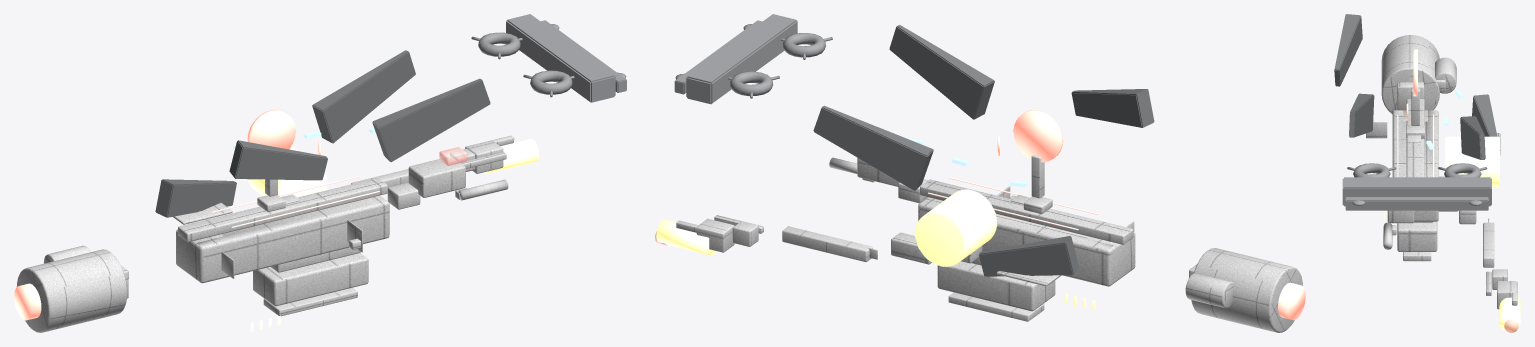
The model's file is var_ashline_rig_corsair_blade_v01.glb.
3 renders of one model, left to right at view 1: azimuth 30°, elevation 25°; view 2: azimuth 150°, elevation 25°; view 3: azimuth 270°, elevation 25°, orthographic. The views are drawn at different scales.
Visible parts, largest first — view 1: LOD0_Merged_Material_Hull, LOD0_Merged_Material_Mechanical, VAR_CORSAIR_blade1, VAR_CORSAIR_ramlip_main, VAR_CORSAIR_blade0, VAR_CORSAIR_blade3, VAR_CORSAIR_blade2, LOD0_Merged_Material_Cyan, LOD0_HOOK_TETHER_SPOOL, VAR_CORSAIR_weaponcollar_n, VAR_CORSAIR_weaponcollar_p, LOD0_HOOK_DRIVE_CORE (+4 smaller); view 2: LOD0_Merged_Material_Hull, LOD0_Merged_Material_Mechanical, LOD0_HOOK_TETHER_SPOOL, VAR_CORSAIR_blade0, VAR_CORSAIR_ramlip_main, VAR_CORSAIR_blade1, VAR_CORSAIR_blade2, VAR_CORSAIR_blade3, LOD0_Merged_Material_Cyan, LOD2_Merged_Material_Cyan, VAR_CORSAIR_weaponcollar_p, VAR_CORSAIR_weaponcollar_n (+6 smaller); view 3: LOD0_Merged_Material_Mechanical, LOD0_Merged_Material_Hull, VAR_CORSAIR_ramlip_main, VAR_CORSAIR_ramlip_edge, LOD0_HOOK_TETHER_SPOOL, VAR_CORSAIR_blade3, VAR_CORSAIR_blade0, VAR_CORSAIR_blade1, LOD1_Merged_Material_Mechanical, VAR_CORSAIR_blade2, LOD0_Merged_Material_Cyan, LOD2_HOOK_TETHER_SPOOL (+7 smaller).
Boxes of the visible parts, box(x1,y1,x2,y2) form: LOD0_Merged_Material_Hull: box(121, 157, 465, 306); LOD0_Merged_Material_Mechanical: box(17, 135, 513, 332); VAR_CORSAIR_blade1: box(372, 78, 490, 162); VAR_CORSAIR_ramlip_main: box(506, 14, 615, 102); VAR_CORSAIR_blade0: box(312, 50, 415, 143); VAR_CORSAIR_blade3: box(229, 140, 327, 180); VAR_CORSAIR_blade2: box(155, 179, 236, 217); LOD0_Merged_Material_Cyan: box(211, 109, 379, 227); LOD0_HOOK_TETHER_SPOOL: box(248, 139, 538, 197); VAR_CORSAIR_weaponcollar_n: box(530, 70, 572, 94); VAR_CORSAIR_weaponcollar_p: box(478, 32, 520, 56); LOD0_HOOK_DRIVE_CORE: box(14, 283, 41, 320); LOD0_Merged_Material_Hull: box(857, 158, 1196, 311); LOD0_Merged_Material_Mechanical: box(676, 155, 1302, 332); LOD0_HOOK_TETHER_SPOOL: box(656, 189, 996, 266); VAR_CORSAIR_blade0: box(813, 105, 933, 190); VAR_CORSAIR_ramlip_main: box(686, 14, 797, 104); VAR_CORSAIR_blade1: box(889, 25, 994, 119); VAR_CORSAIR_blade2: box(979, 236, 1078, 276); VAR_CORSAIR_blade3: box(1071, 89, 1154, 127); LOD0_Merged_Material_Cyan: box(928, 110, 1099, 230); LOD2_Merged_Material_Cyan: box(1013, 110, 1063, 162); VAR_CORSAIR_weaponcollar_p: box(730, 71, 773, 96); VAR_CORSAIR_weaponcollar_n: box(782, 33, 825, 57); LOD0_Merged_Material_Mechanical: box(1366, 35, 1517, 309); LOD0_Merged_Material_Hull: box(1387, 80, 1500, 251); VAR_CORSAIR_ramlip_main: box(1342, 177, 1491, 206); VAR_CORSAIR_ramlip_edge: box(1345, 197, 1488, 210); LOD0_HOOK_TETHER_SPOOL: box(1445, 136, 1520, 330); VAR_CORSAIR_blade3: box(1334, 14, 1362, 86); VAR_CORSAIR_blade0: box(1460, 116, 1485, 159); VAR_CORSAIR_blade1: box(1349, 93, 1374, 137); LOD1_Merged_Material_Mechanical: box(1382, 35, 1517, 308); VAR_CORSAIR_blade2: box(1472, 94, 1500, 150); LOD0_Merged_Material_Cyan: box(1397, 49, 1434, 177); LOD2_HOOK_TETHER_SPOOL: box(1445, 137, 1520, 331).
Size of what is drawn, in the model's own units: 17.82 by 6.45 by 5.73.
Materials: 8 (5 with a texture image).
